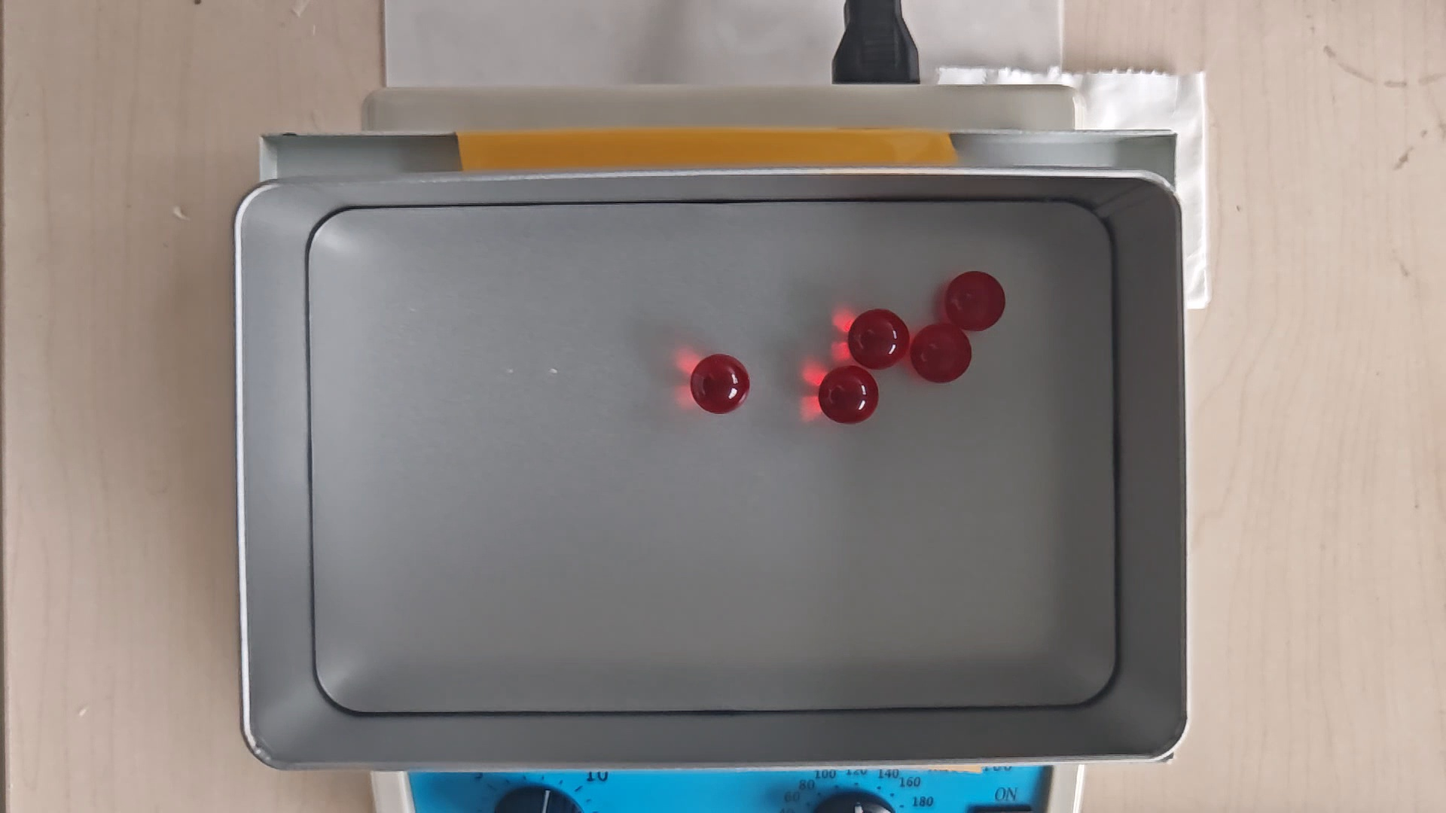ball: (819, 365, 879, 425), (944, 271, 1004, 331), (693, 353, 749, 416), (914, 324, 972, 384), (851, 309, 908, 370)
container: (307, 195, 1118, 716)
